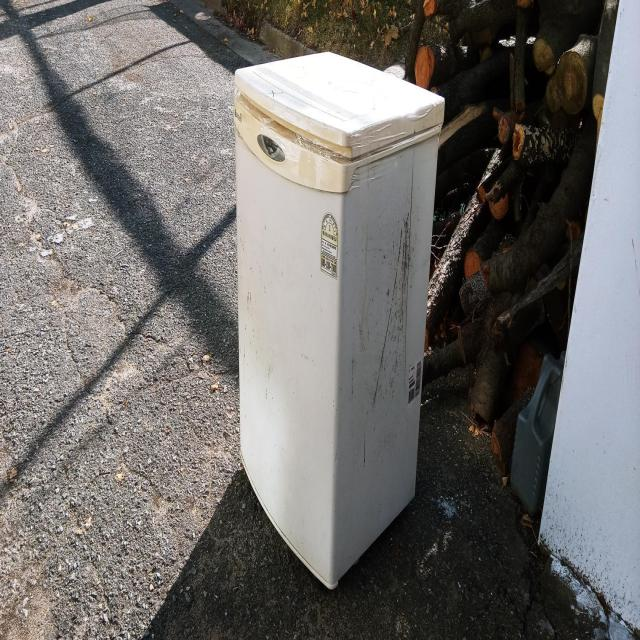refrigerator: (232, 49, 446, 593)
